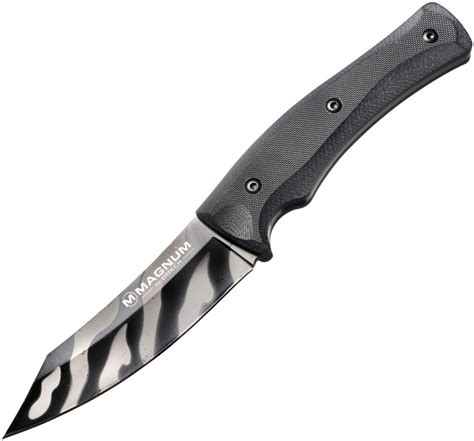knife: (4, 0, 474, 437)
